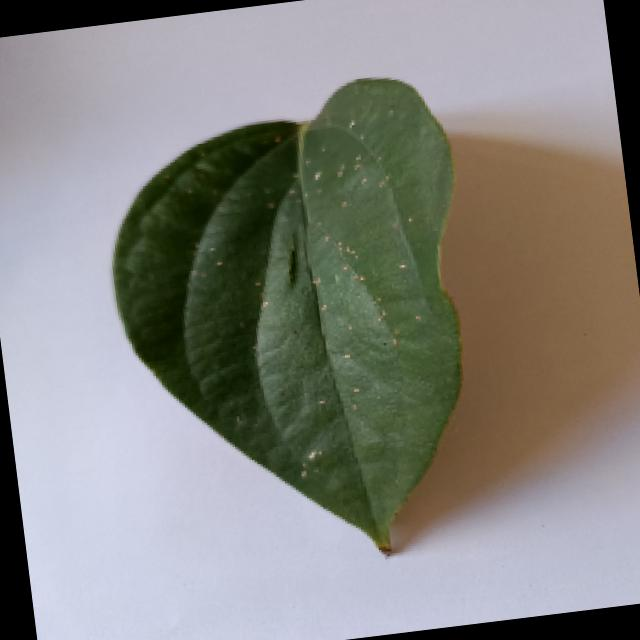pollu-disease: (83, 70, 526, 584)
